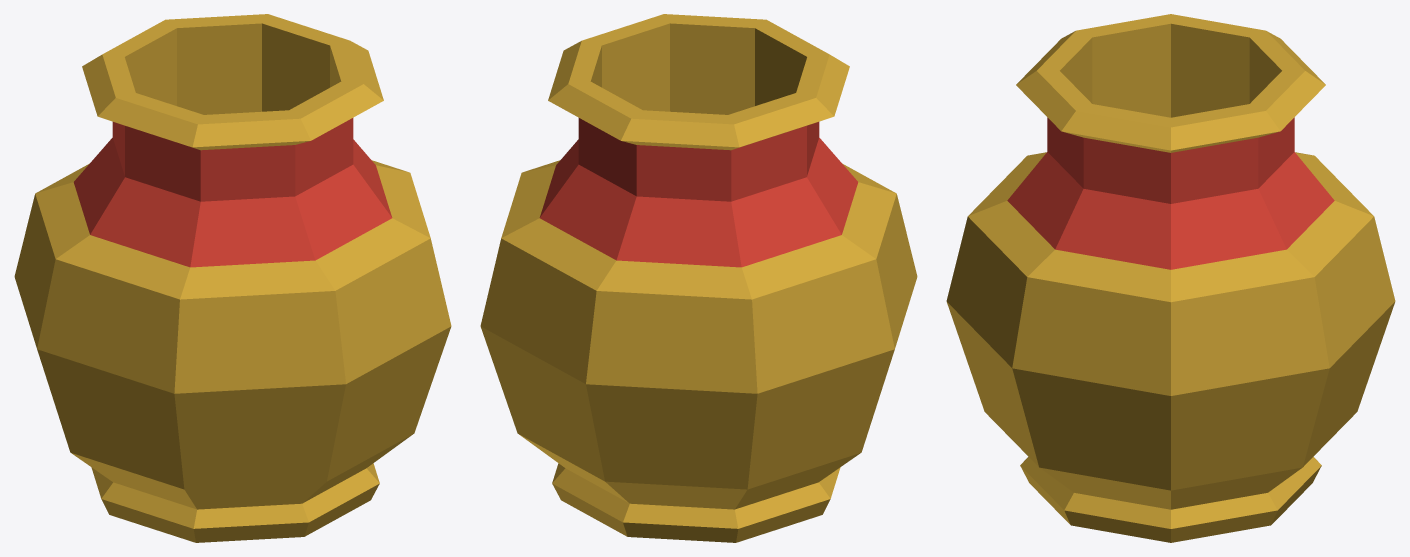
The model's file is Vase2.fbx.
3 renders of one model, left to right at view 1: azimuth 30°, elevation 25°; view 2: azimuth 150°, elevation 25°; view 3: azimuth 270°, elevation 25°, orthographic.
Parts seen in each view (by area): view 1: Vase2; view 2: Vase2; view 3: Vase2.
Part boxes in pixels (<box>): Vase2: <box>14,14,451,542</box>; Vase2: <box>480,14,917,542</box>; Vase2: <box>946,14,1395,542</box>.
Size of the model in its own units: 142 by 144 by 142.
